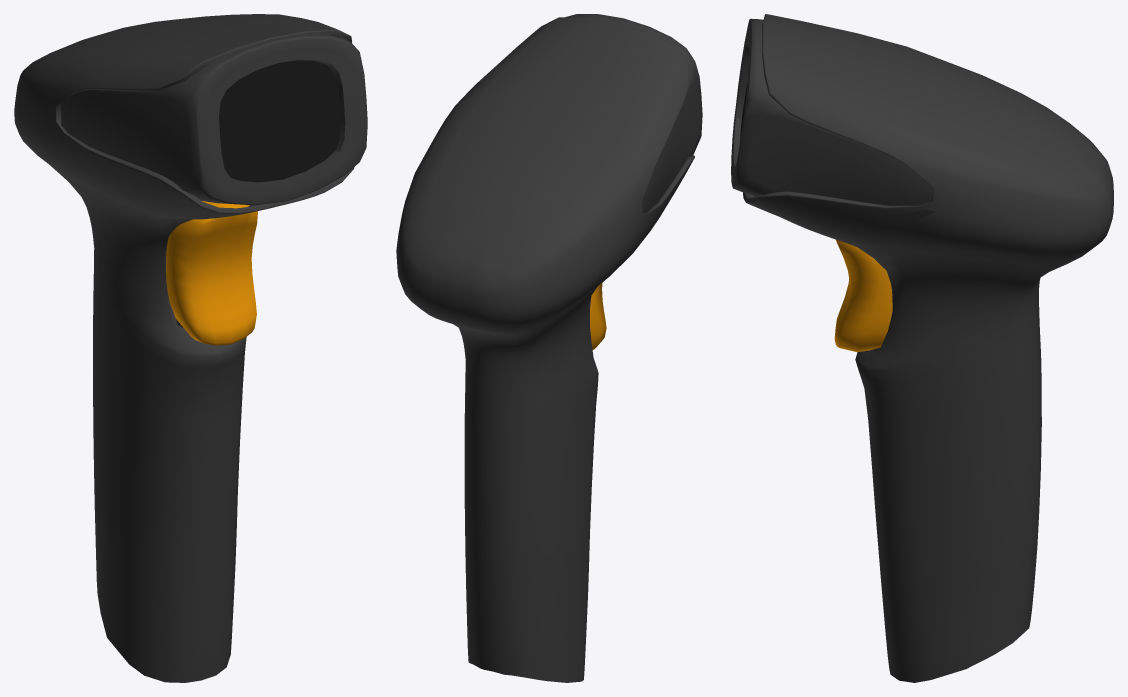
The model's file is scanner.fbx.
3 views of the same model, side by side, from view 1: azimuth 30°, elevation 25°; view 2: azimuth 150°, elevation 25°; view 3: azimuth 270°, elevation 25° (orthographic). The views are drawn at different scales.
Visible parts, largest first — view 1: scanner-FINAL; view 2: scanner-FINAL; view 3: scanner-FINAL.
Boxes of the visible parts, x1,y1,x2,y2 form: scanner-FINAL: (14,14,367,682); scanner-FINAL: (396,14,702,682); scanner-FINAL: (731,14,1113,682).
Bounding box in the file's own units: 110 × 302 × 165.
1 material, 1 textured.
